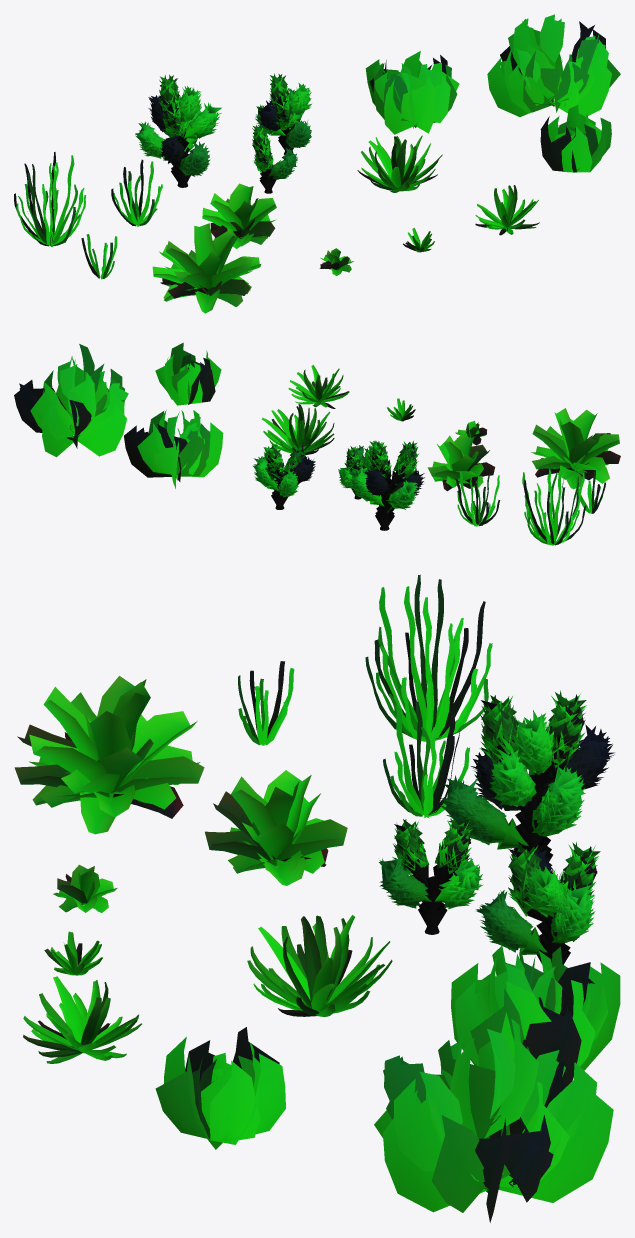
File: desert_shrubs._v2.fbx
3 renders of one model, top to bottom at view 1: azimuth 30°, elevation 25°; view 2: azimuth 150°, elevation 25°; view 3: azimuth 270°, elevation 25°, orthographic. The views are drawn at different scales.
Parts seen in each view (by area): view 1: creosote branch 02_7, cholla 01_9, yacca leaf 01_3, agave_2, ocotillo branch 02_6, ocotillo branch 01_5, cholla 02_8, yacca leaf 02_4; view 2: creosote branch 02_7, yacca leaf 01_3, cholla 01_9, agave_2, ocotillo branch 02_6, ocotillo branch 01_5, cholla 02_8, yacca leaf 02_4; view 3: creosote branch 02_7, cholla 01_9, yacca leaf 01_3, agave_2, ocotillo branch 02_6, ocotillo branch 01_5, cholla 02_8, yacca leaf 02_4.
Boxes of the visible parts, bbox=[...] form: creosote branch 02_7: bbox=[365, 14, 620, 172]; cholla 01_9: bbox=[135, 73, 311, 179]; yacca leaf 01_3: bbox=[152, 183, 353, 305]; agave_2: bbox=[357, 135, 539, 252]; ocotillo branch 02_6: bbox=[18, 152, 162, 245]; ocotillo branch 01_5: bbox=[14, 182, 160, 279]; cholla 02_8: bbox=[150, 98, 303, 190]; yacca leaf 02_4: bbox=[163, 228, 266, 313]; creosote branch 02_7: bbox=[14, 342, 223, 488]; yacca leaf 01_3: bbox=[427, 408, 620, 488]; cholla 01_9: bbox=[253, 440, 424, 509]; agave_2: bbox=[261, 365, 415, 454]; ocotillo branch 02_6: bbox=[456, 465, 584, 544]; ocotillo branch 01_5: bbox=[457, 472, 605, 545]; cholla 02_8: bbox=[263, 457, 410, 527]; yacca leaf 02_4: bbox=[436, 458, 609, 491]; creosote branch 02_7: bbox=[155, 945, 620, 1222]; cholla 01_9: bbox=[379, 690, 614, 952]; yacca leaf 01_3: bbox=[14, 676, 347, 912]; agave_2: bbox=[23, 915, 392, 1063]; ocotillo branch 02_6: bbox=[378, 574, 485, 815]; ocotillo branch 01_5: bbox=[238, 628, 492, 817]; cholla 02_8: bbox=[392, 739, 590, 964]; yacca leaf 02_4: bbox=[32, 772, 328, 885].
Size of the model in its own units: 753 by 128 by 365.
